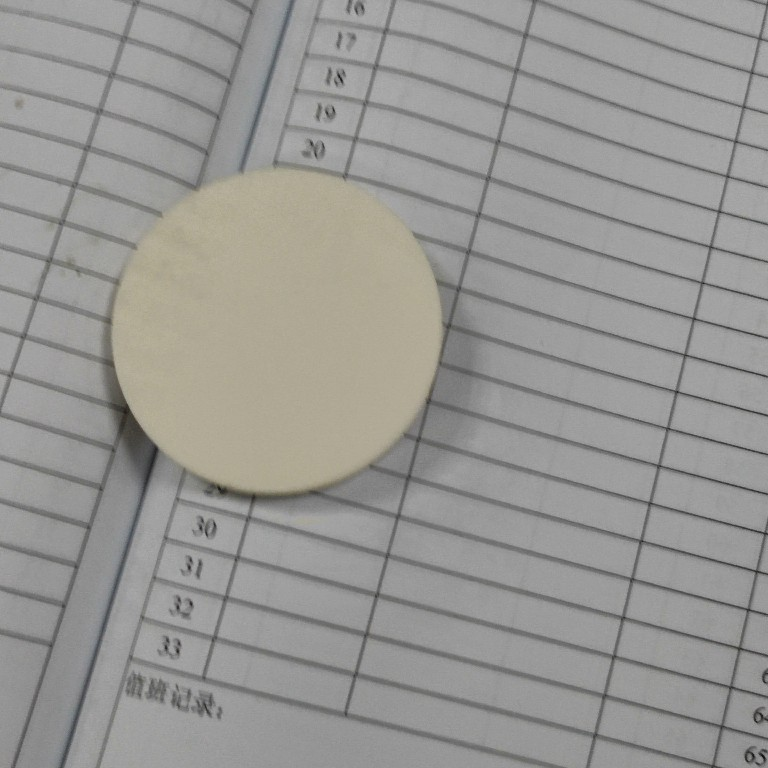ceramics: (102, 160, 446, 503)
